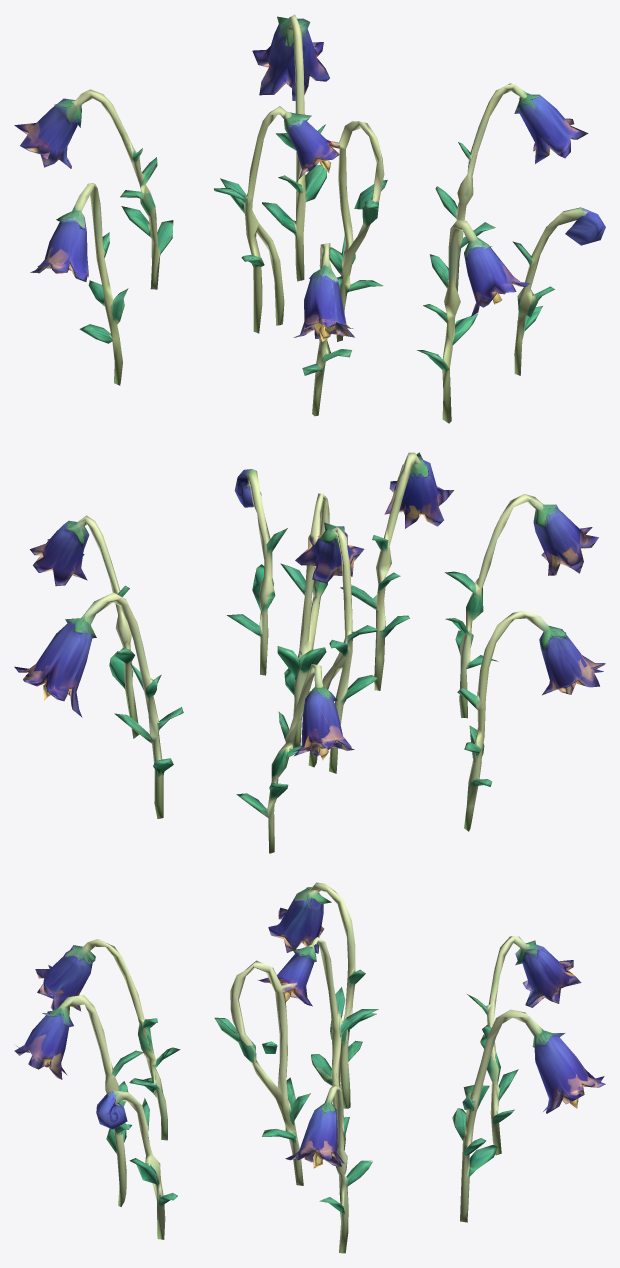
3 views of the same model, one above another, from view 1: azimuth 30°, elevation 25°; view 2: azimuth 150°, elevation 25°; view 3: azimuth 270°, elevation 25° (orthographic). The views are drawn at different scales.
Parts seen in each view (by area): view 1: Mesh_0; view 2: Mesh_0; view 3: Mesh_0.
Boxes of the visible parts, box(x1,y1,x2,y2) form: Mesh_0: box(14, 14, 605, 423); Mesh_0: box(14, 452, 605, 853); Mesh_0: box(14, 882, 605, 1253).
Bounding box in the file's own units: 1.91 × 0.8402 × 1.87.
1 material, 1 textured.
